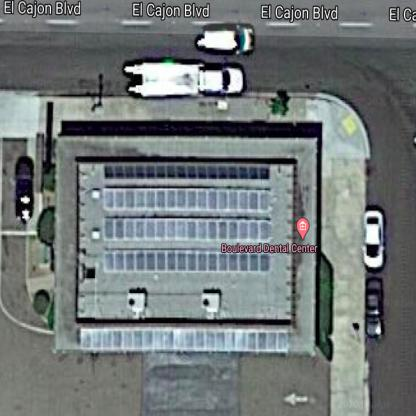car: (120, 54, 245, 106), (357, 274, 395, 344), (193, 20, 260, 59), (12, 146, 41, 224), (357, 200, 387, 275)
solar_panel: (79, 321, 296, 367), (97, 246, 280, 289), (93, 181, 279, 220), (94, 215, 283, 245), (100, 159, 285, 189)
